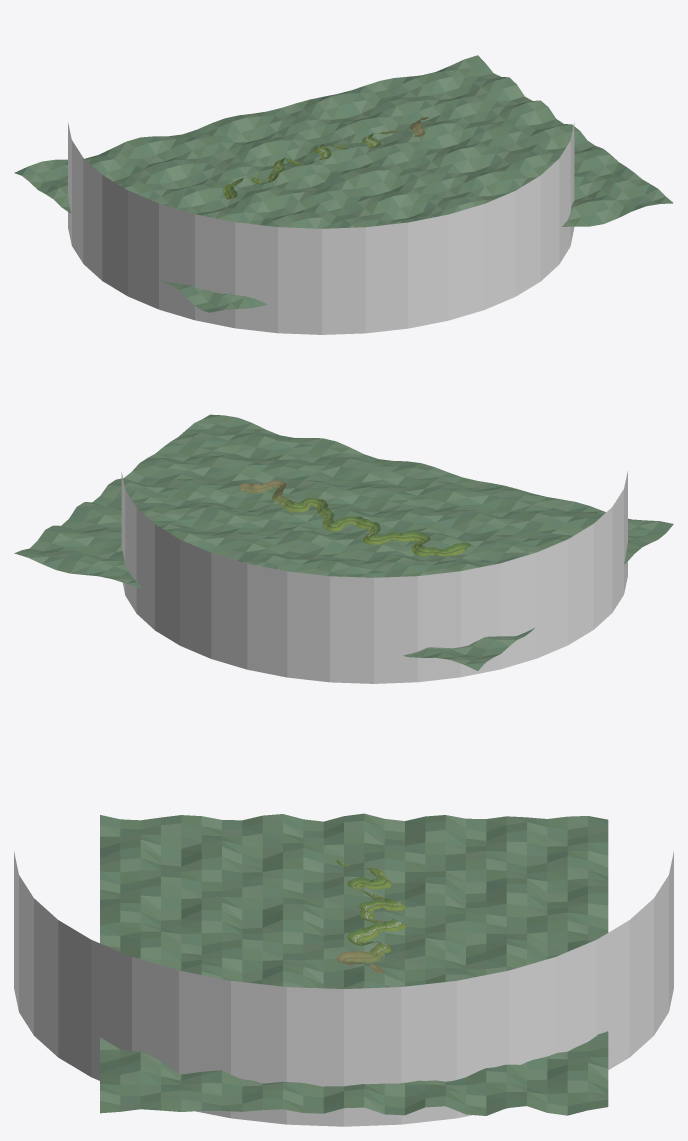
Rendered from letras.glb.
3 views of the same model, one above another, from view 1: azimuth 30°, elevation 25°; view 2: azimuth 150°, elevation 25°; view 3: azimuth 270°, elevation 25° (orthographic). The views are drawn at different scales.
Parts seen in each view (by area): view 1: Peaks, Cordillera; view 2: Peaks, Cordillera; view 3: Peaks, Cordillera.
Boxes of the visible parts, bbox=[...] form: Peaks: bbox=[14, 55, 673, 312]; Cordillera: bbox=[68, 122, 574, 334]; Peaks: bbox=[14, 414, 673, 670]; Cordillera: bbox=[121, 471, 627, 683]; Peaks: bbox=[100, 813, 608, 1115]; Cordillera: bbox=[14, 851, 673, 1126].
Bounding box in the file's own units: 29900 × 6350 × 27600.
